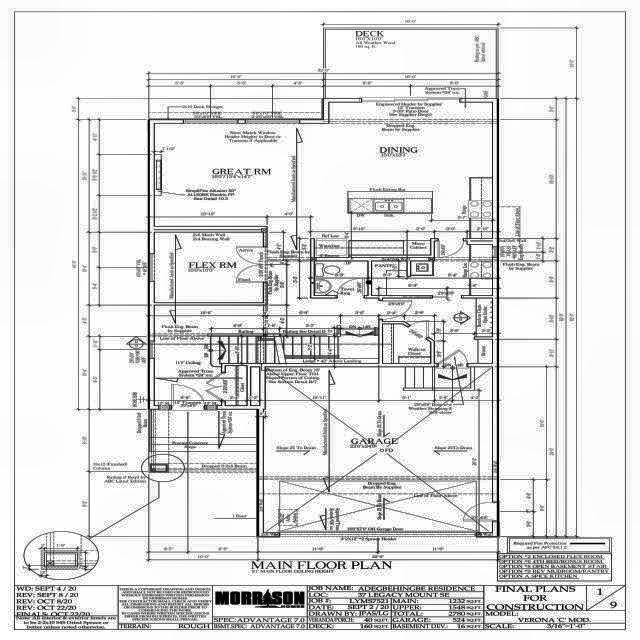room: (264, 367, 492, 533), (155, 232, 263, 303), (382, 298, 492, 363), (372, 241, 492, 295), (315, 261, 368, 296), (383, 324, 430, 363)
